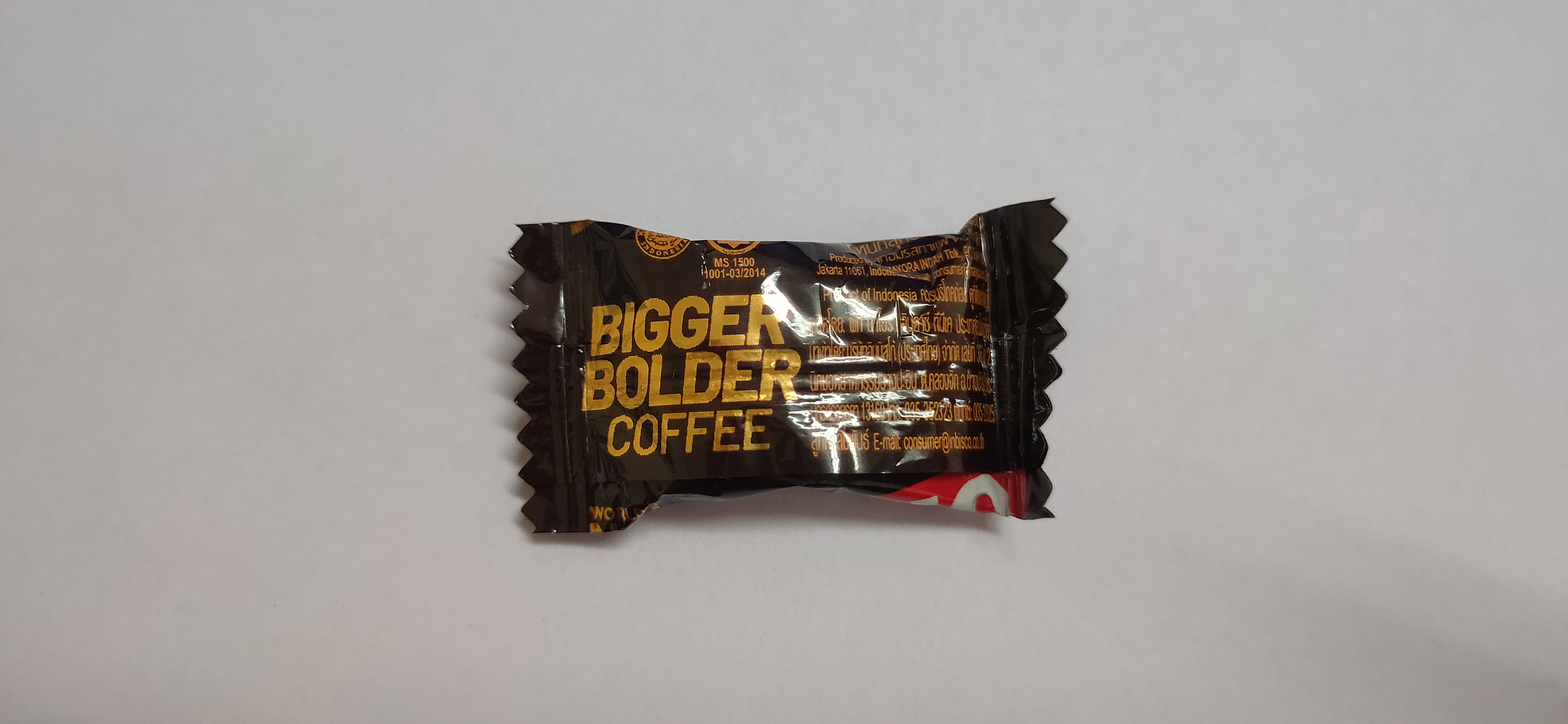plastic: (491, 181, 1081, 557)
